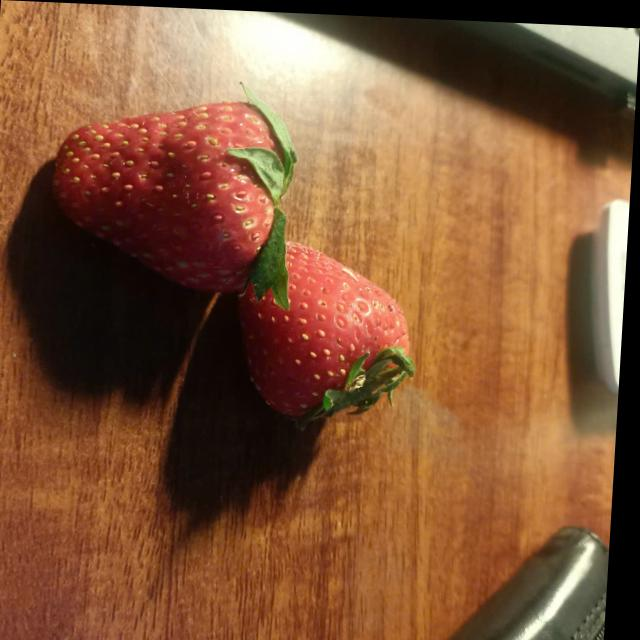DauTay: (44, 74, 306, 318), (228, 233, 435, 436)
